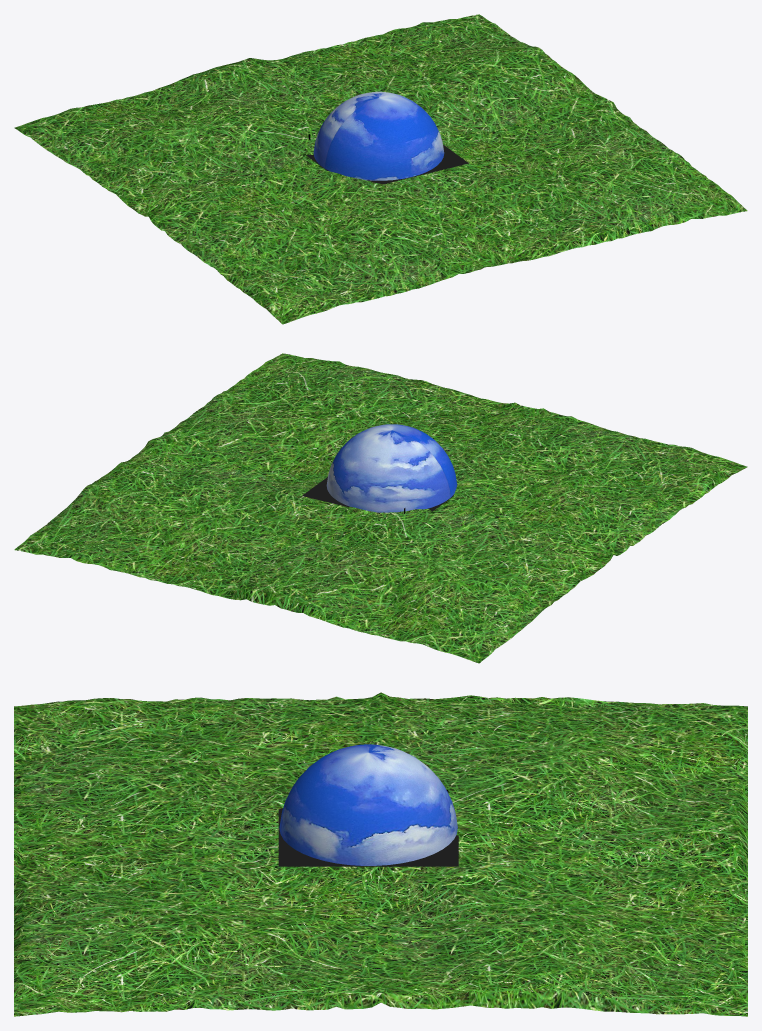
Rendered from Hills(ML).fbx.
3 renders of one model, top to bottom at view 1: azimuth 30°, elevation 25°; view 2: azimuth 150°, elevation 25°; view 3: azimuth 270°, elevation 25°, orthographic. The views are drawn at different scales.
Parts seen in each view (by area): view 1: Plane.002, Sphere.001, Plane; view 2: Plane.002, Sphere.001; view 3: Plane.002, Sphere.001, Plane.
Part boxes in pixels (x1=…): Plane.002: x1=14, y1=14, x2=747, y2=324; Sphere.001: x1=313, y1=91, x2=444, y2=180; Plane: x1=305, y1=144, x2=468, y2=184; Plane.002: x1=14, y1=353, x2=747, y2=663; Sphere.001: x1=326, y1=424, x2=457, y2=512; Plane.002: x1=14, y1=692, x2=747, y2=1016; Sphere.001: x1=279, y1=744, x2=457, y2=865; Plane: x1=278, y1=808, x2=458, y2=866.
Size of the model in its own units: 32625 by 5127 by 32625.
4 materials, 2 textured.
